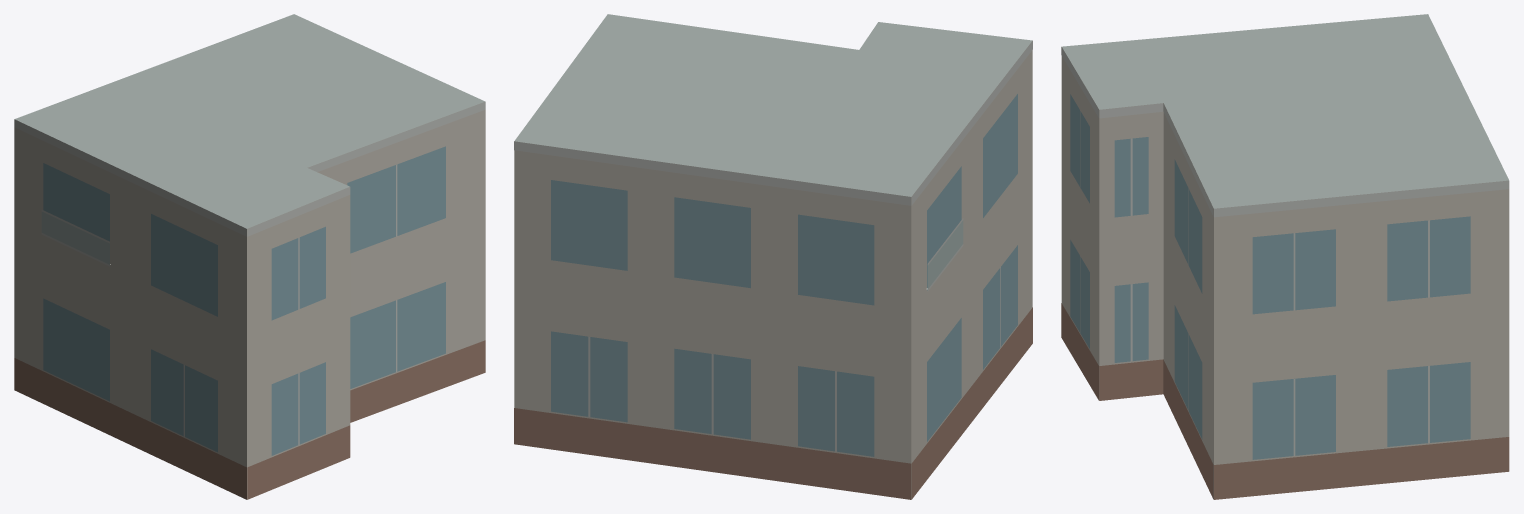
The model's file is survey-upis-32616519.glb.
The picture shows the model from 3 angles, left to right: view 1: azimuth 30°, elevation 25°; view 2: azimuth 150°, elevation 25°; view 3: azimuth 270°, elevation 25°; orthographic projection. The views are drawn at different scales.
Parts seen in each view (by area): view 1: survey-upis-32616519.tmp; view 2: survey-upis-32616519.tmp; view 3: survey-upis-32616519.tmp.
Boxes of the visible parts, x1=… form: survey-upis-32616519.tmp: x1=14, y1=14, x2=485, y2=499; survey-upis-32616519.tmp: x1=514, y1=14, x2=1032, y2=499; survey-upis-32616519.tmp: x1=1061, y1=14, x2=1509, y2=499.
Bounding box in the file's own units: 11.79 × 8.21 × 11.45.
